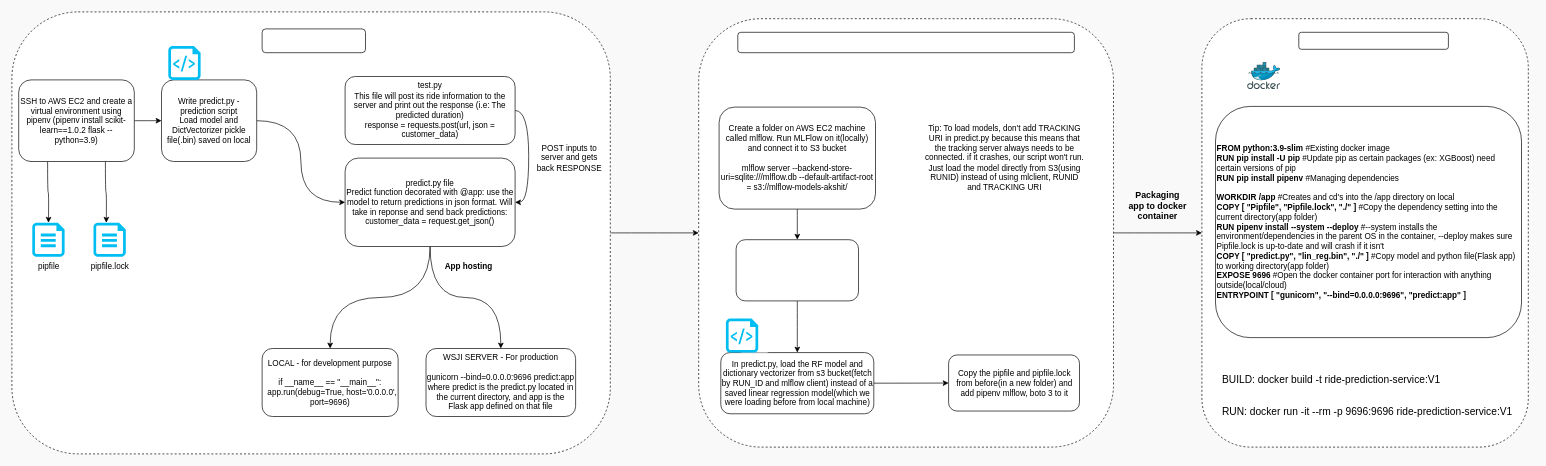
Image size: 1546x466. Some labels were removed from this diagram. The centre of each missing label's shape, as x and y in pixels:
Build and run the dockerfile: the point at 1373,40
Docker File: the point at 1263,75
Log a random forest model and dictionary vectorizer(artifact) on the s3 bucket: the point at 797,270
Virtual Environment: the point at 313,40
We are using MLflow to push model to S3 and then use/load model from there: the point at 905,42
